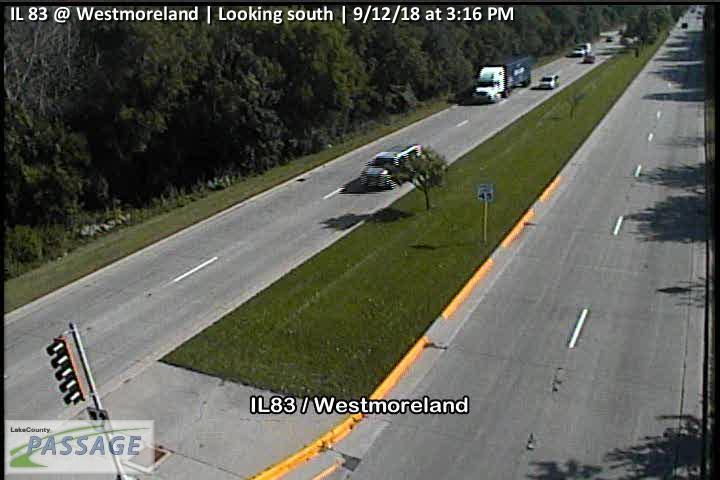SUV: (357, 141, 426, 190), (538, 72, 559, 89)
Truck: (470, 53, 534, 103)
